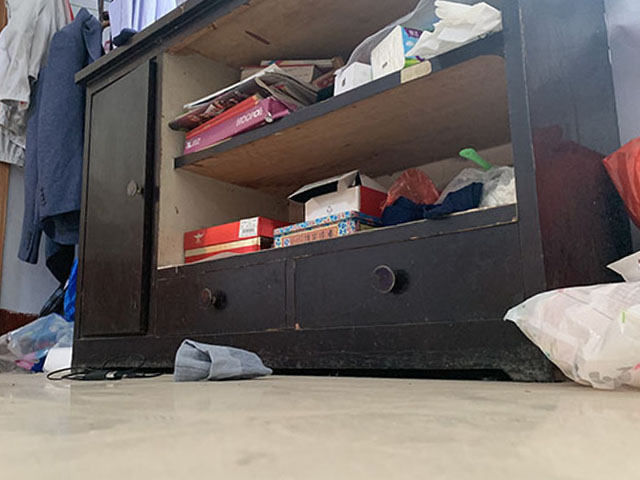cabinet: (58, 1, 536, 383)
socks: (172, 336, 274, 384)
wire: (50, 354, 165, 382)
